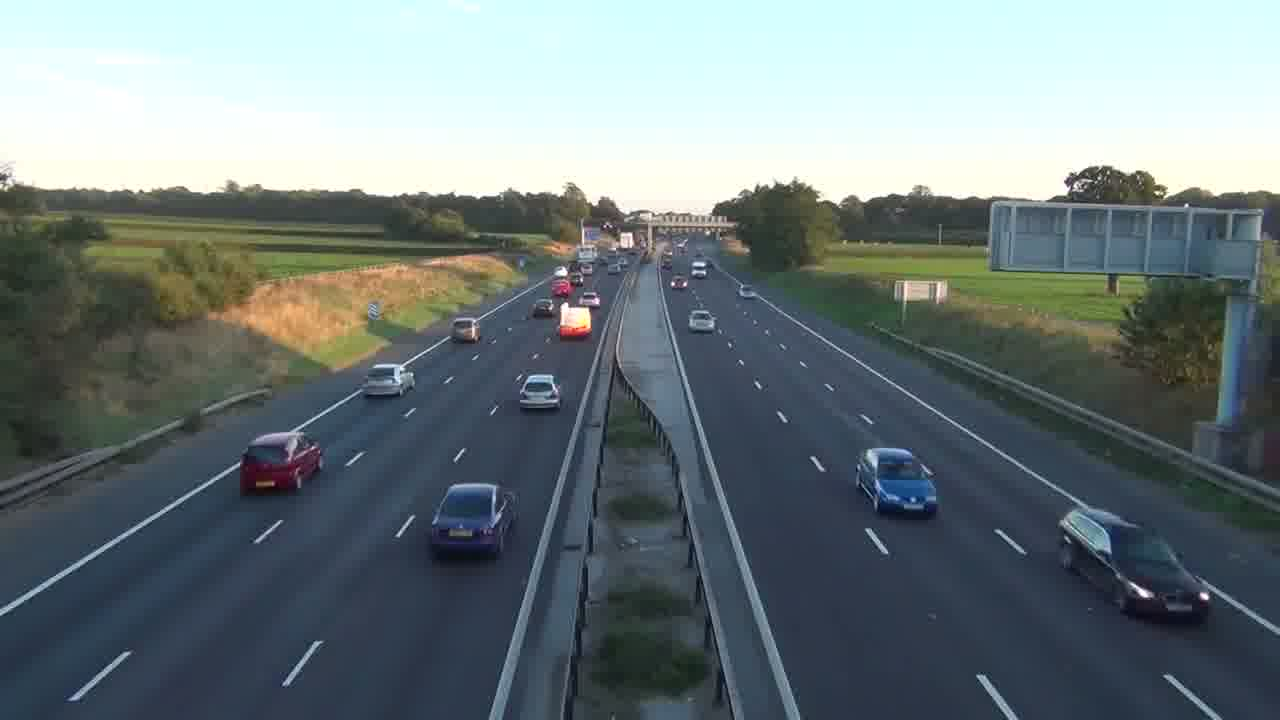car: (1057, 505, 1212, 625), (429, 481, 518, 558), (855, 446, 940, 518), (239, 430, 323, 496), (518, 373, 562, 411), (363, 363, 408, 398), (688, 308, 717, 334)
